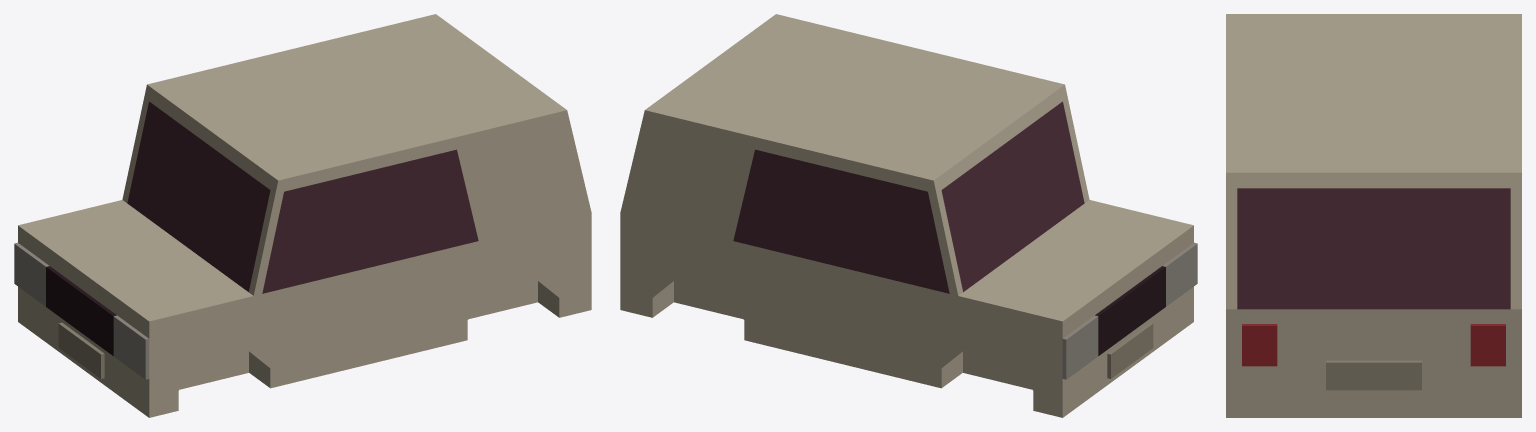
File: Suv_White.fbx
3 views of the same model, side by side, from view 1: azimuth 30°, elevation 25°; view 2: azimuth 150°, elevation 25°; view 3: azimuth 270°, elevation 25° (orthographic). The views are drawn at different scales.
Visible parts, largest first — view 1: Suv_White, Suv_Lights; view 2: Suv_White, Suv_Lights; view 3: Suv_White, Suv_Lights.
Part boxes in pixels (x1,y1,x2,y2): Suv_White: (18,14,591,417); Suv_Lights: (14,242,149,379); Suv_White: (620,14,1193,417); Suv_Lights: (1062,242,1197,379); Suv_White: (1226,14,1521,417); Suv_Lights: (1242,324,1505,366).
Bounding box in the file's own units: 3.66 × 1.6 × 1.85.
